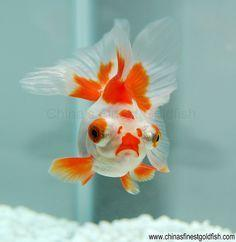goldfish: (52, 65, 191, 196)
